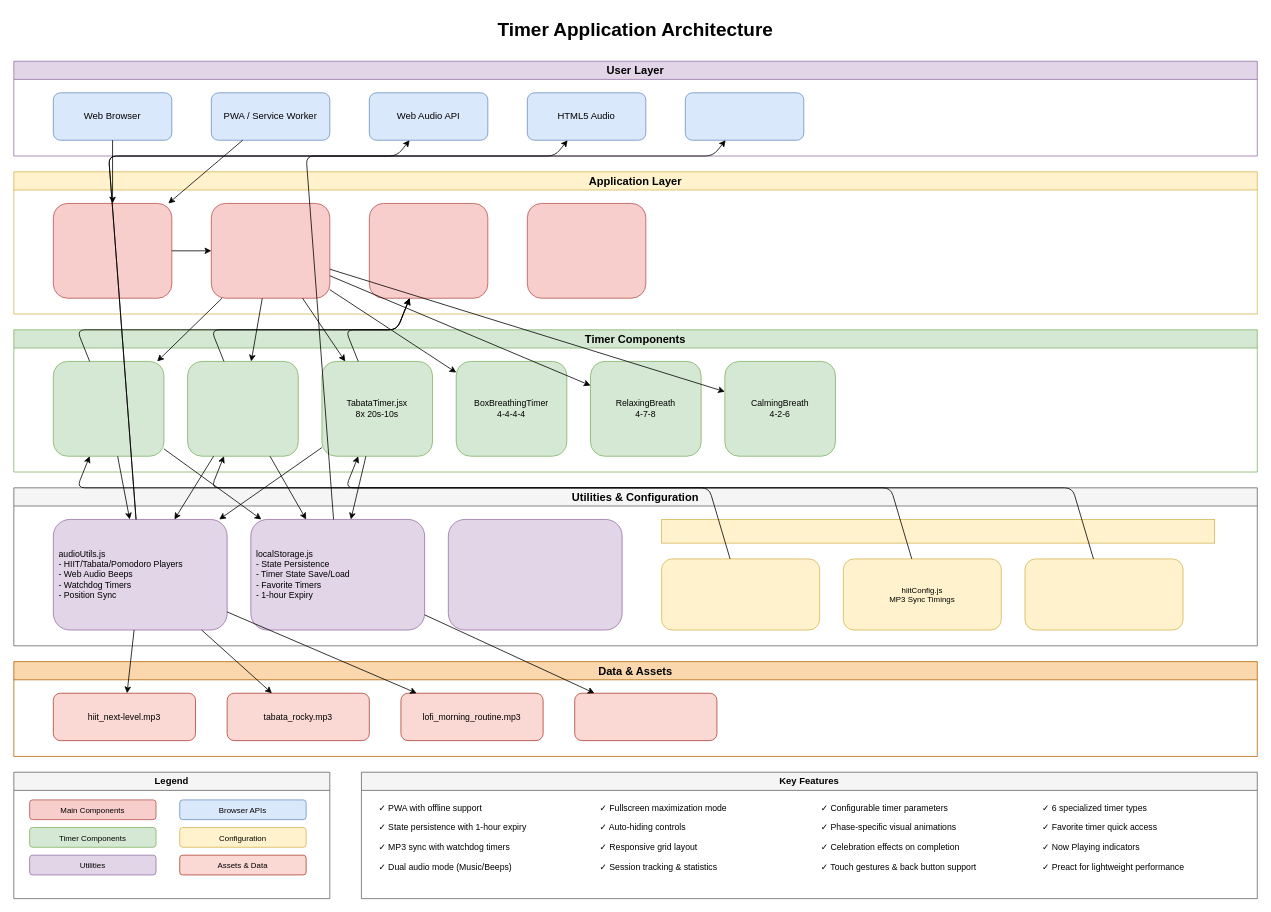
Image size: 1271x912. Some labels were removed from this diagram. The shapes that lost their labels are listed below. From the top down, each one's centre as x and y in pixels, then its label:
At [744,116]: "localStorage".
At [112,250]: "App.jsx Main Container".
At [270,250]: "TimerCarousel.jsx Grid Display".
At [428,250]: "Confetti.jsx Celebration".
At [586,250]: "useDoubleClick Custom Hooks".
At [108,408]: "PomodoroTimer.jsx 25-5-15 Cycles".
At [242,408]: "HiitTimer.jsx 12x 40s-20s".
At [938,531]: "Configuration Files".
At [535,574]: "timerHelpers.js - Time Formatting - Phase Logic - Helper Functions".
At [740,594]: "pomodoroConfig.js Work/Break Durations".
At [1103,594]: "tabataConfig.js Protocol Settings".
At [645,716]: "localStorage Data - Timer States - User Preferences".
